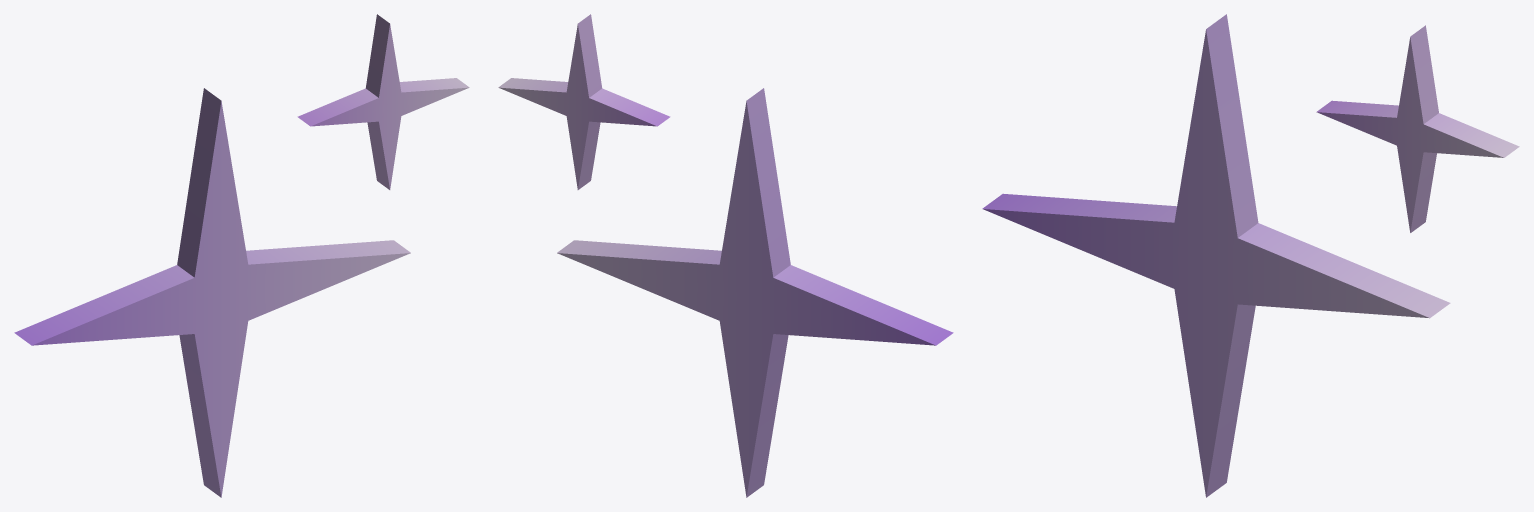
The model's file is ai_premium_double_sparkle.glb.
3 renders of one model, left to right at view 1: azimuth 30°, elevation 25°; view 2: azimuth 150°, elevation 25°; view 3: azimuth 330°, elevation 25°, orthographic. The views are drawn at different scales.
Parts seen in each view (by area): view 1: world; view 2: world; view 3: world.
Boxes of the visible parts, x1,y1,x2,y2 form: world: (14,14,469,497); world: (498,14,953,497); world: (982,14,1519,497).
Bounding box in the file's own units: 2.32 × 2.17 × 0.16.
